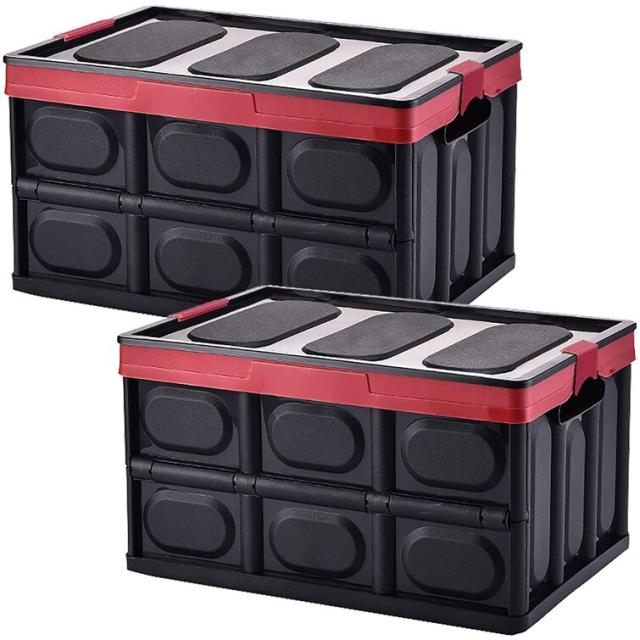basket: (0, 1, 524, 326), (127, 481, 574, 640)
